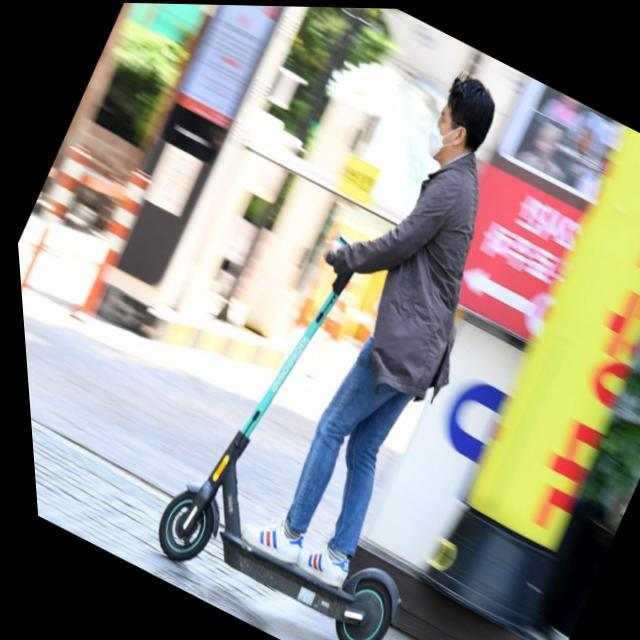Nonhelmet: (413, 66, 504, 164)
